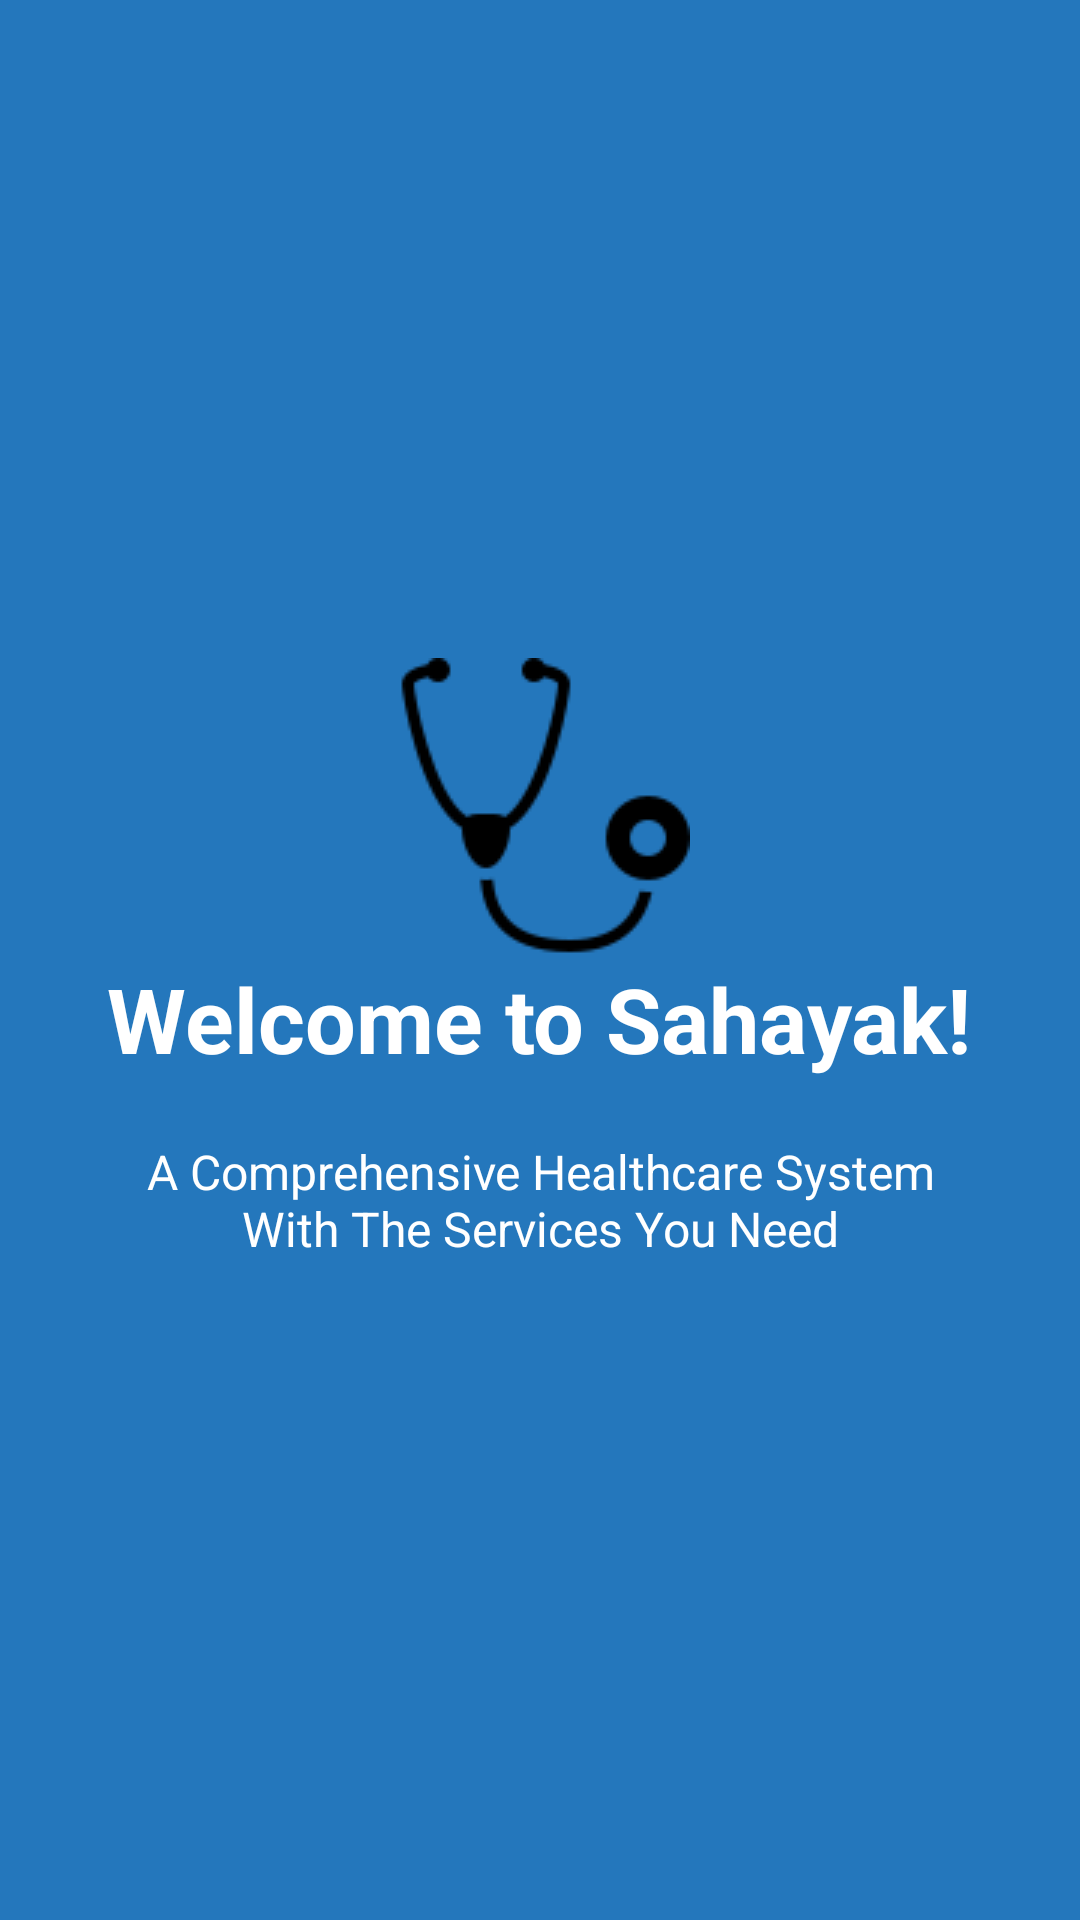

Named icons in this screenshot (1080*1920) and their bounding boxes, (x1, y1, x2, y2):
sthe: (401, 658, 690, 953)
